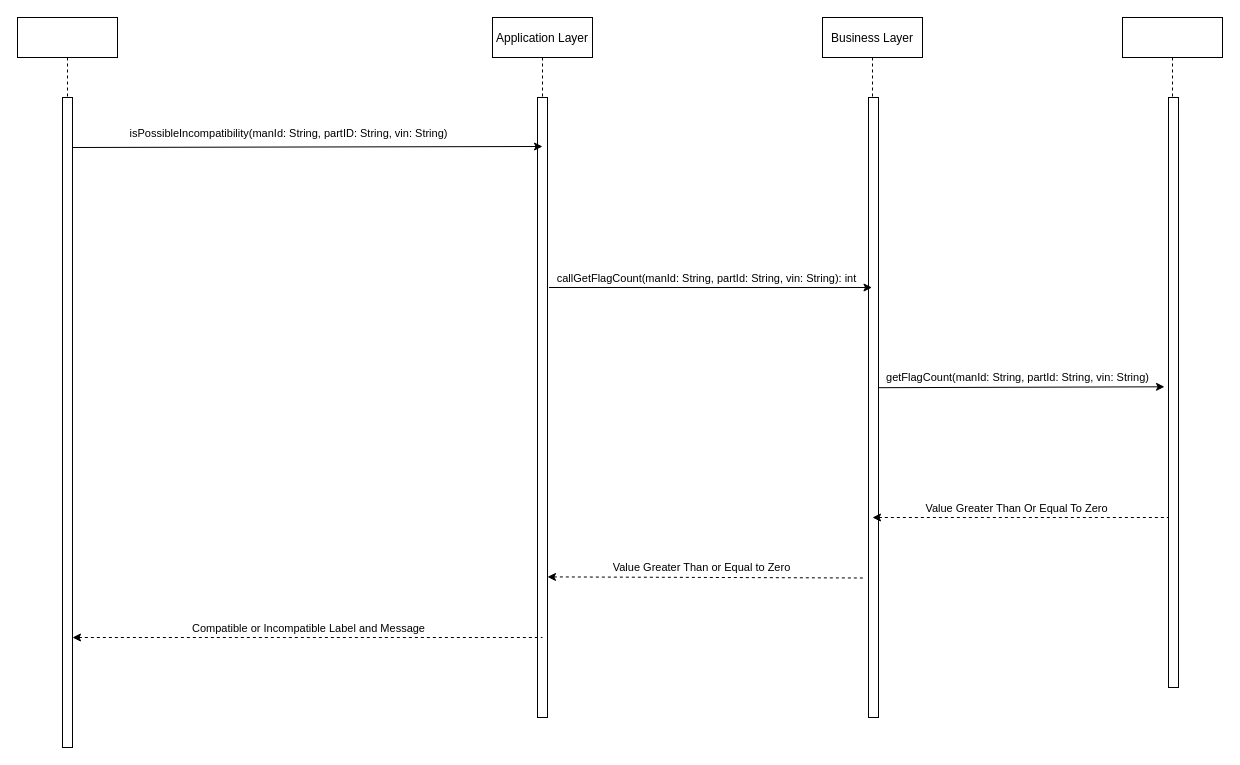
This 1240x765 diagram has some shape labels left out. The shapes that lost their labels are listed below. From the top down, each one's box as (x1, y1, x2, y2) in pixels, then its label:
(1122, 16, 1222, 688): Data Access Layer
(16, 16, 118, 748): Frontend
